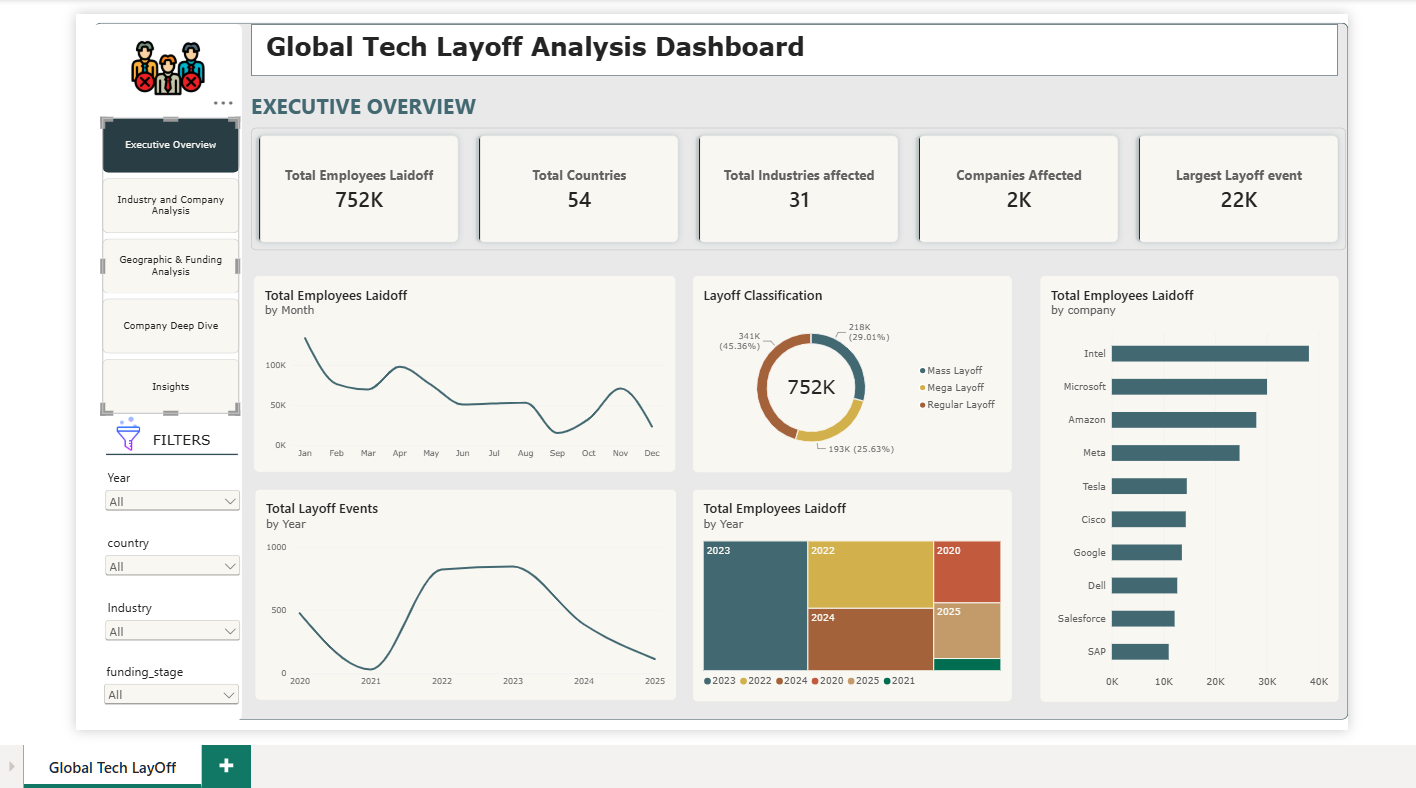

What the dashboard file says about the page in this screenshot:
{"tool":"powerbi","page":{"name":"Global Tech LayOff","canvas":[1920,1080],"ordinal":0},"visuals":[{"type":"shape","box":[29,12.7,1892,1052],"z":0},{"type":"shape","box":[27.1,14.5,224.4,1051.4],"z":1000},{"type":"slicer","fields":{"Values":["Date.Year"]},"box":[38.7,687.3,212.9,80.6],"z":3000},{"type":"slicer","fields":{"Values":["layoffs_events.country"]},"box":[38.7,785.6,212.9,80.6],"z":4000},{"type":"slicer","fields":{"Values":["layoffs_events.industry"]},"box":[38.7,883.9,212.9,77.4],"z":5000},{"type":"slicer","fields":{"Values":["layoffs_events.funding_stage"]},"box":[38,979,212.9,87.1],"z":6000},{"type":"textbox","box":[38,613.5,213.5,52.5],"z":7000},{"type":"image","box":[29,602.6,101.3,63.3],"z":8000},{"type":"shape","box":[45.2,613.5,199.1,103.2],"z":9000},{"type":"shape","box":[264.9,14.6,1640.8,78.6],"z":11000},{"type":"textbox","box":[285.9,27.1,843.3,72.4],"z":12000},{"type":"image","box":[72.4,27.1,133.9,110.4],"z":17000},{"type":"textbox","box":[285,165.1,807.9,870.8],"z":40000},{"type":"textbox","box":[1158.5,98.1,760.4,909.4],"z":41000},{"type":"bookmarkNavigator","box":[40,156,207.5,447.5],"z":41001},{"type":"shape","box":[1084,164.7,74.2,843.3],"z":41002}]}

Visuals, with their boxes on the page's 1920x1080 design canvas (x1, y1, x2, y2). These are canvas units, not pixel positions in the 1416x788 screenshot, which may show the page scaled, cropped or inside an application window:
shape: {"left": 29, "top": 13, "right": 1921, "bottom": 1065}
shape: {"left": 27, "top": 14, "right": 252, "bottom": 1066}
slicer - Date.Year: {"left": 39, "top": 687, "right": 252, "bottom": 768}
slicer - layoffs_events.country: {"left": 39, "top": 786, "right": 252, "bottom": 866}
slicer - layoffs_events.industry: {"left": 39, "top": 884, "right": 252, "bottom": 961}
slicer - layoffs_events.funding_stage: {"left": 38, "top": 979, "right": 251, "bottom": 1066}
textbox: {"left": 38, "top": 614, "right": 252, "bottom": 666}
image: {"left": 29, "top": 603, "right": 130, "bottom": 666}
shape: {"left": 45, "top": 614, "right": 244, "bottom": 717}
shape: {"left": 265, "top": 15, "right": 1906, "bottom": 93}
textbox: {"left": 286, "top": 27, "right": 1129, "bottom": 100}
image: {"left": 72, "top": 27, "right": 206, "bottom": 138}
textbox: {"left": 285, "top": 165, "right": 1093, "bottom": 1036}
textbox: {"left": 1158, "top": 98, "right": 1919, "bottom": 1008}
bookmarkNavigator: {"left": 40, "top": 156, "right": 248, "bottom": 604}
shape: {"left": 1084, "top": 165, "right": 1158, "bottom": 1008}
